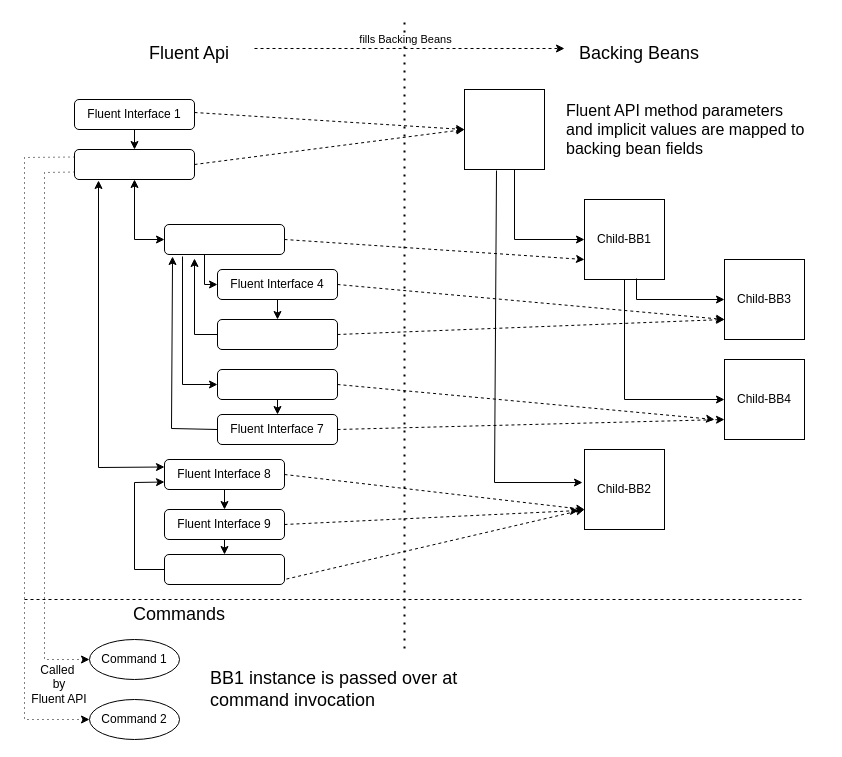
The diagram is 842 pixels wide and 757 high, and some of its shapes have lost their labels. The shapes that lost their labels are listed below. From the top down, each one's box as (x1, y1, x2, y2) in pixels, then its label:
(464, 88, 544, 170): BB1
(74, 148, 194, 180): Fluent Interface 2
(164, 224, 284, 254): Fluent Interface 3
(216, 318, 338, 350): Fluent Interface 5
(216, 368, 338, 400): Fluent Interface 6
(164, 554, 284, 584): Fluent Interface 10
